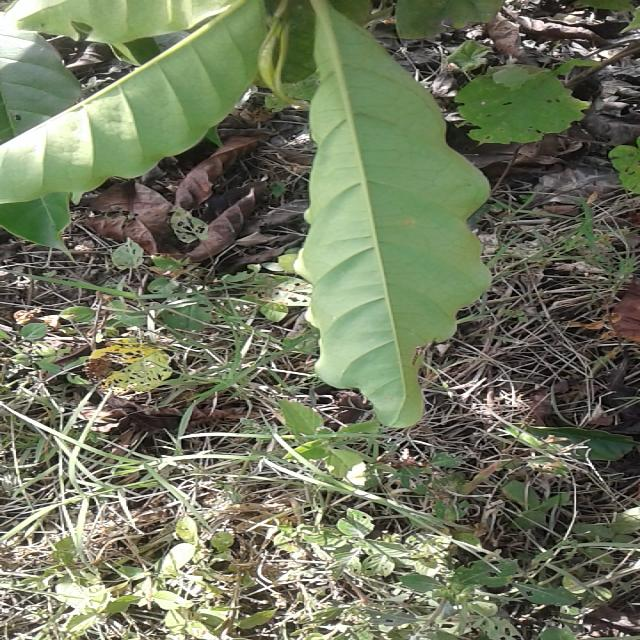Enfermedad-Roya: (260, 0, 492, 430)
